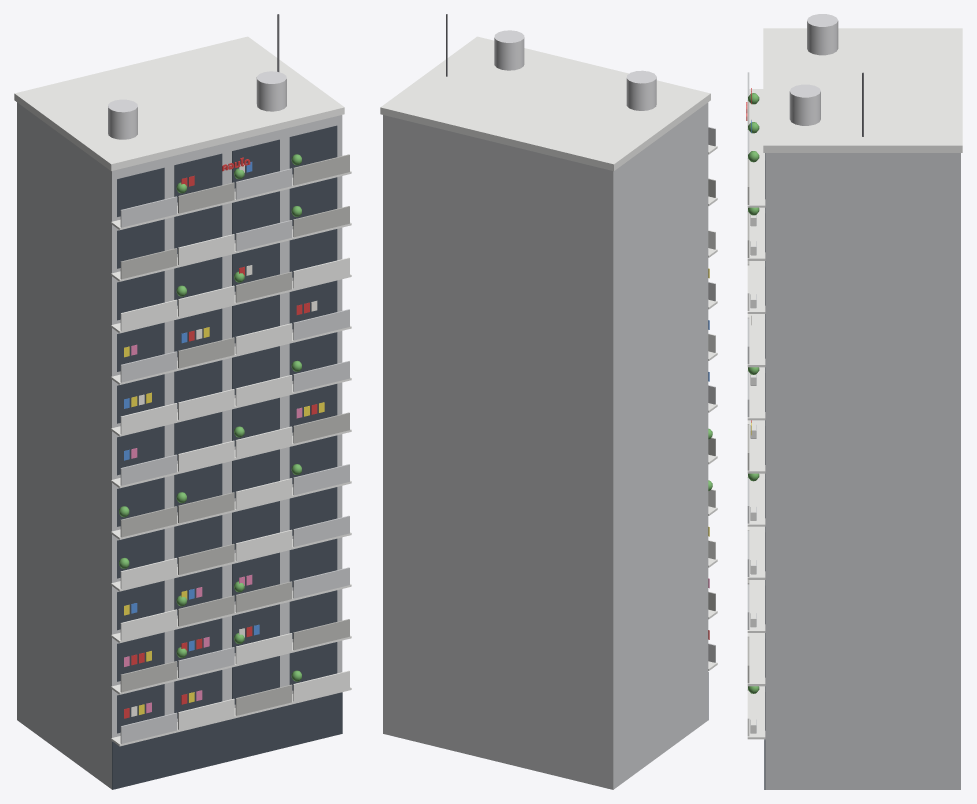
The model's file is SM_Condo_C.fbx.
The picture shows the model from 3 angles, left to right: view 1: azimuth 30°, elevation 25°; view 2: azimuth 150°, elevation 25°; view 3: azimuth 270°, elevation 25°; orthographic projection. The views are drawn at different scales.
Parts seen in each view (by area): view 1: SM_Condo_C; view 2: SM_Condo_C; view 3: SM_Condo_C.
Boxes of the visible parts, x1,y1,x2,y2 form: SM_Condo_C: (14, 14, 351, 789); SM_Condo_C: (380, 14, 717, 789); SM_Condo_C: (746, 14, 962, 789).
Bounding box in the file's own units: 14.2 × 40 × 11.08.
